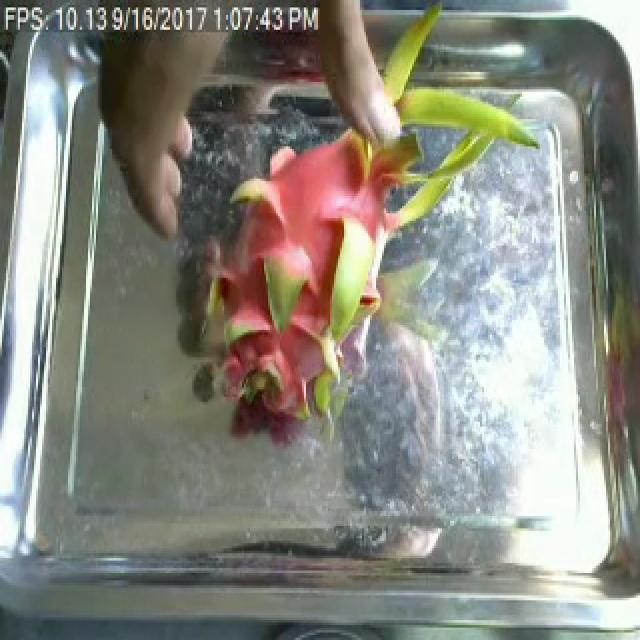fruit: (176, 62, 518, 466)
